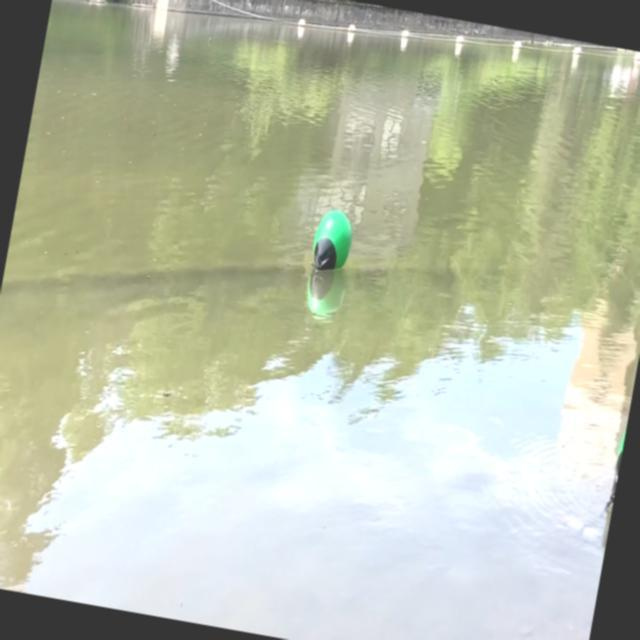buoy: (307, 204, 357, 276)
